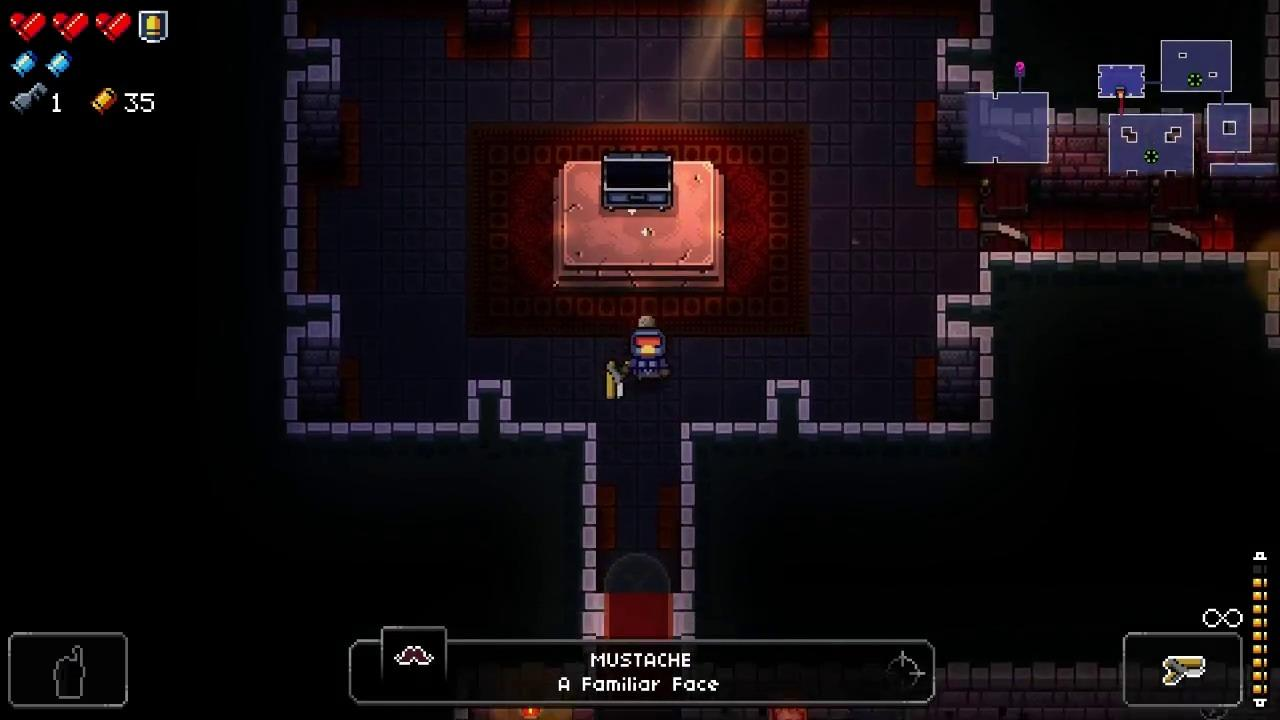blocked_door: (598, 594, 683, 637)
blue_chest: (602, 149, 673, 211)
player: (630, 327, 669, 380)
pressure_plate: (597, 549, 681, 594)
unlocked_door: (979, 125, 1031, 249), (1151, 136, 1201, 251)
